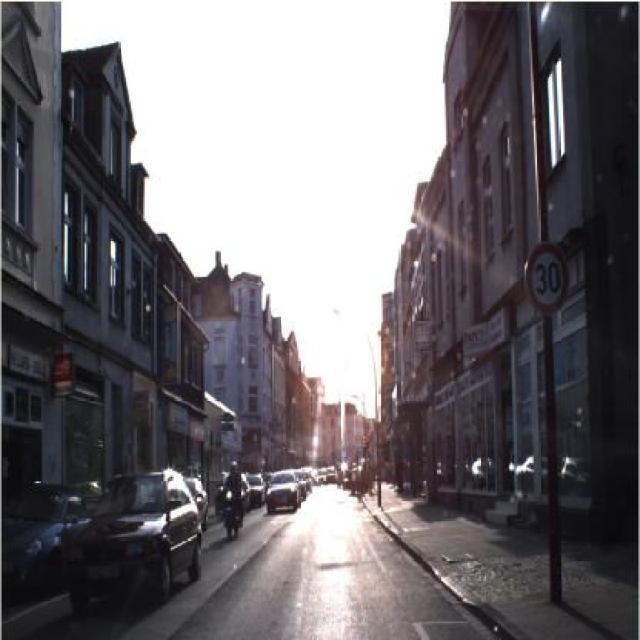forb_speed_over_30: (523, 238, 571, 317)
